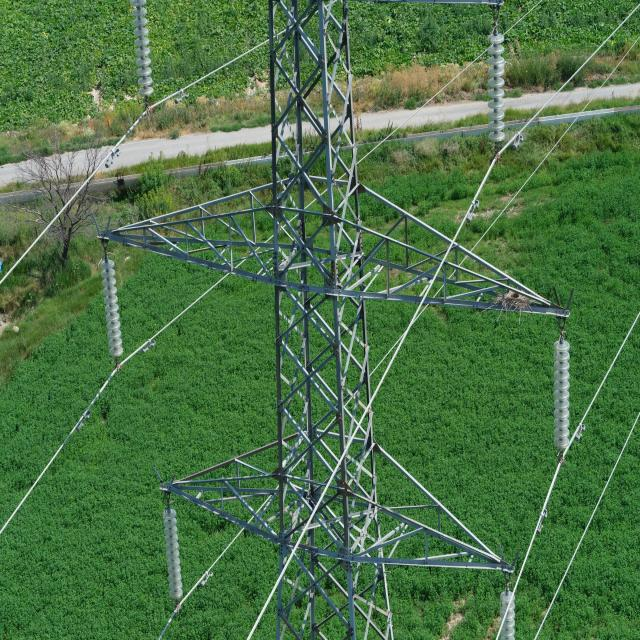direk: (272, 0, 398, 640)
